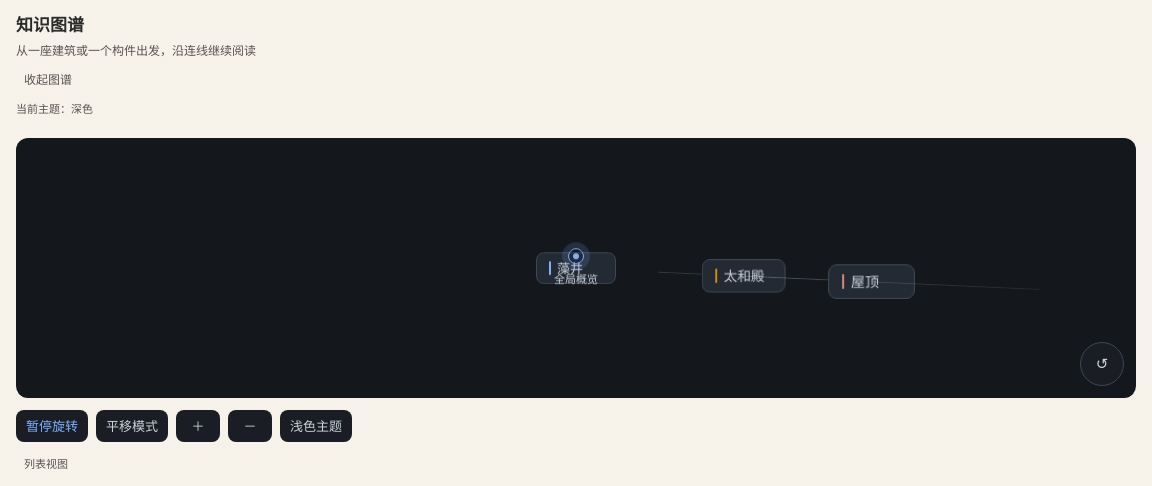
Test: EncyclopediaKnowledgeGraph › D-07 3D 旋转按钮 aria-pressed 随状态切换
Click the button with class "enc-graph3d-control" showing "暂停旋转" at (52, 426), box x1=16 y1=410 x2=88 y2=442
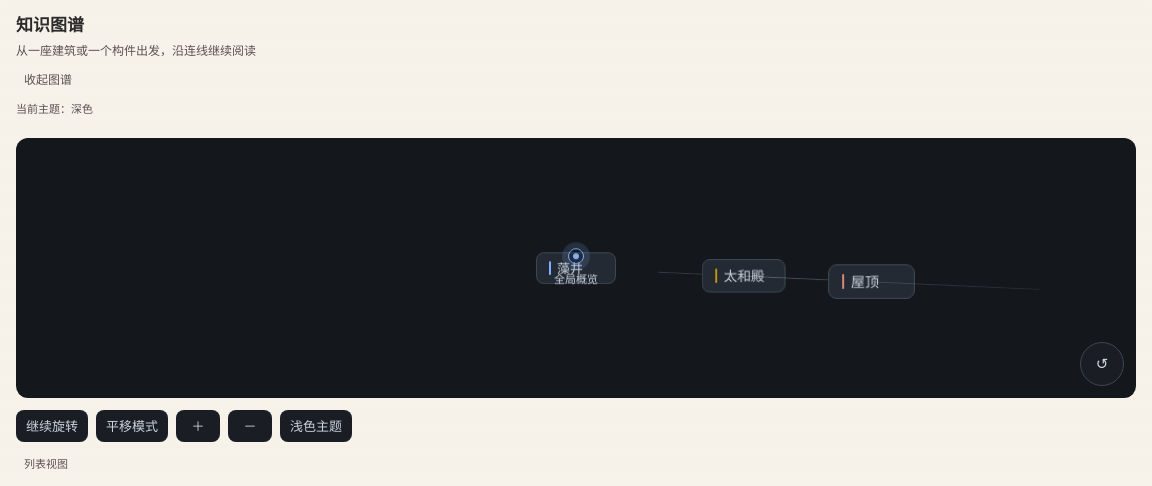
Result: the button with class "enc-graph3d-control" is not pressed at x1=16 y1=410 x2=88 y2=442
